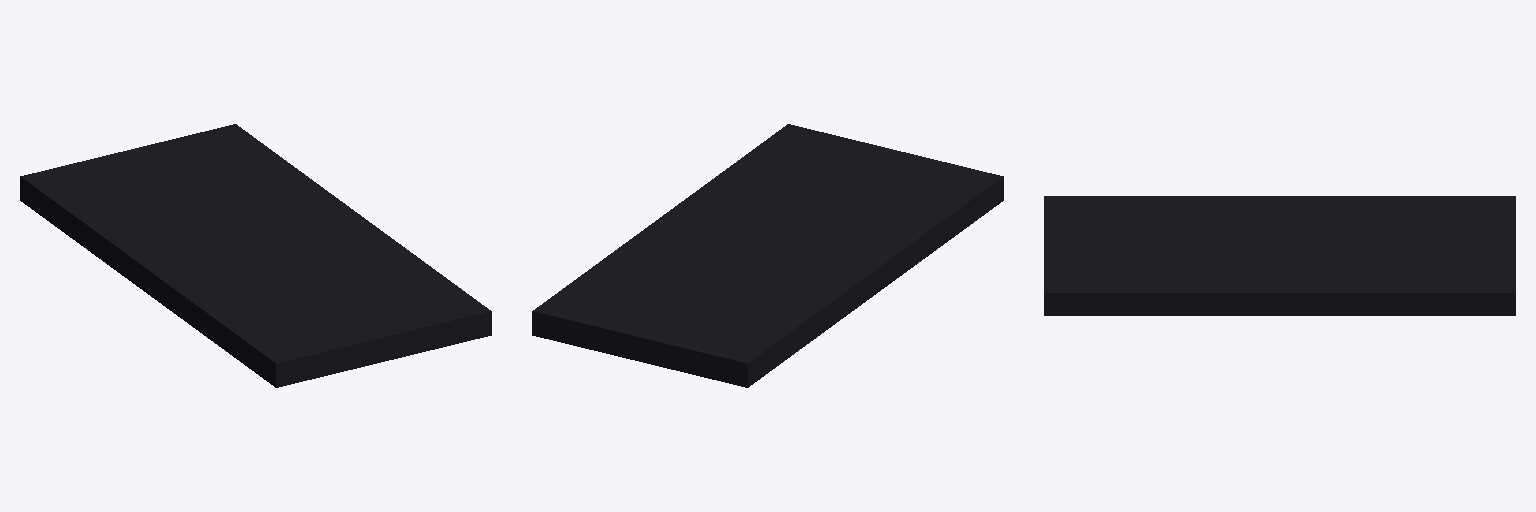
URDF robot description (iphone_se_3rd_generation):
<?xml version="1.0"?>
<!-- iPhone SE (3rd generation): generated by imuninn from Apple's dimensional drawings (iphone-frames dataset). Frames: device = display centre on the front glass (x right, y top, z out of the screen); cam_*_optical = OpenCV axes. Geometry and mass are approximate. -->
<robot name="iphone_se_3rd_generation">
  <material name="iphone_body">
    <color rgba="0.15 0.15 0.17 1" />
  </material>
  <material name="iphone_lens">
    <color rgba="0.05 0.05 0.06 1" />
  </material>
  <link name="device">
    <visual name="body">
      <origin xyz="5e-06 -5e-06 -0.003655" rpy="0 0 0" />
      <geometry>
        <box size="0.06727 0.13844 0.00731" />
      </geometry>
      <material name="iphone_body" />
    </visual>
    <collision name="body">
      <origin xyz="5e-06 -5e-06 -0.003655" rpy="0 0 0" />
      <geometry>
        <box size="0.06727 0.13844 0.00731" />
      </geometry>
    </collision>
    <visual name="lens_main">
      <origin xyz="0.0232 0.058975 -0.007745" rpy="0 0 0" />
      <geometry>
        <cylinder radius="0.004285" length="0.00087" />
      </geometry>
      <material name="iphone_lens" />
    </visual>
    <inertial>
      <origin xyz="5e-06 -5e-06 -0.003655" rpy="0 0 0" />
      <mass value="0.157" />
      <inertia ixx="0.000251449" ixy="0" ixz="0" iyy="5.99045e-05" iyz="0" izz="0.000309956" />
    </inertial>
  </link>
  <link name="magsafe" />
  <joint name="device_to_magsafe" type="fixed">
    <parent link="device" />
    <child link="magsafe" />
    <origin xyz="1e-05 -5e-06 -0.00731" rpy="3.14159265 0 3.14159265" />
  </joint>
  <link name="cam_main_optical" />
  <joint name="device_to_cam_main_optical" type="fixed">
    <parent link="device" />
    <child link="cam_main_optical" />
    <origin xyz="0.0232 0.058975 -0.00818" rpy="3.14159265 0 -1.57079633" />
  </joint>
  <link name="cam_front_optical" />
  <joint name="device_to_cam_front_optical" type="fixed">
    <parent link="device" />
    <child link="cam_front_optical" />
    <origin xyz="-0.01064 0.060055 0" rpy="0 0 1.57079633" />
  </joint>
  <link name="imu" />
  <joint name="device_to_imu" type="fixed">
    <parent link="device" />
    <child link="imu" />
    <origin xyz="0 0 0" rpy="0 0 0" />
  </joint>
</robot>

--- What the picture shows (computed from the rendered views, not written in the file) ---
3 views of the same robot in one strip: view 1: azimuth 30°, elevation 25°; view 2: azimuth 150°, elevation 25°; view 3: azimuth 270°, elevation 25° (orthographic).
Robot: iphone_se_3rd_generation — 5 links, 4 joints (4 fixed); root link device; default pose: every joint at zero.
Links seen in each view (by area): view 1: device; view 2: device; view 3: device.
Link boxes in pixels (<box>): device: <box>20,124,491,387</box>; device: <box>532,124,1003,387</box>; device: <box>1044,196,1515,315</box>.
Size in the robot's own frame: 0.0673 by 0.1384 by 0.0082 metres.
Geometry: primitives only (box / cylinder / sphere), no mesh files.
